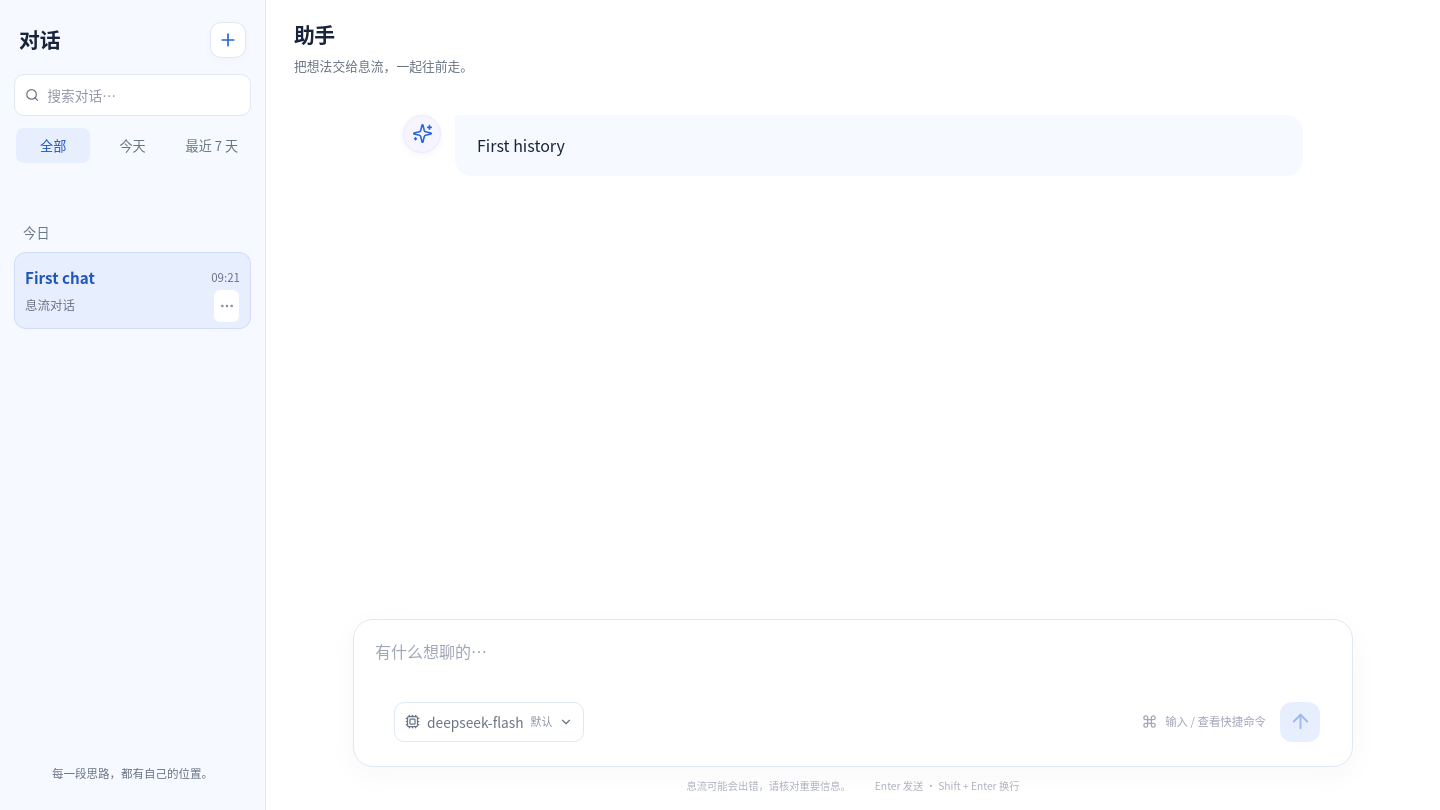
stop targets only the visible running conversation and shows its saved cancellation
Check: the text "First history" is shown, box x1=477 y1=133 x2=565 y2=157
Type "Wait" into the text box named "消息".
click(853, 654); type("Wait")  # box x1=372 y1=634 x2=1334 y2=674
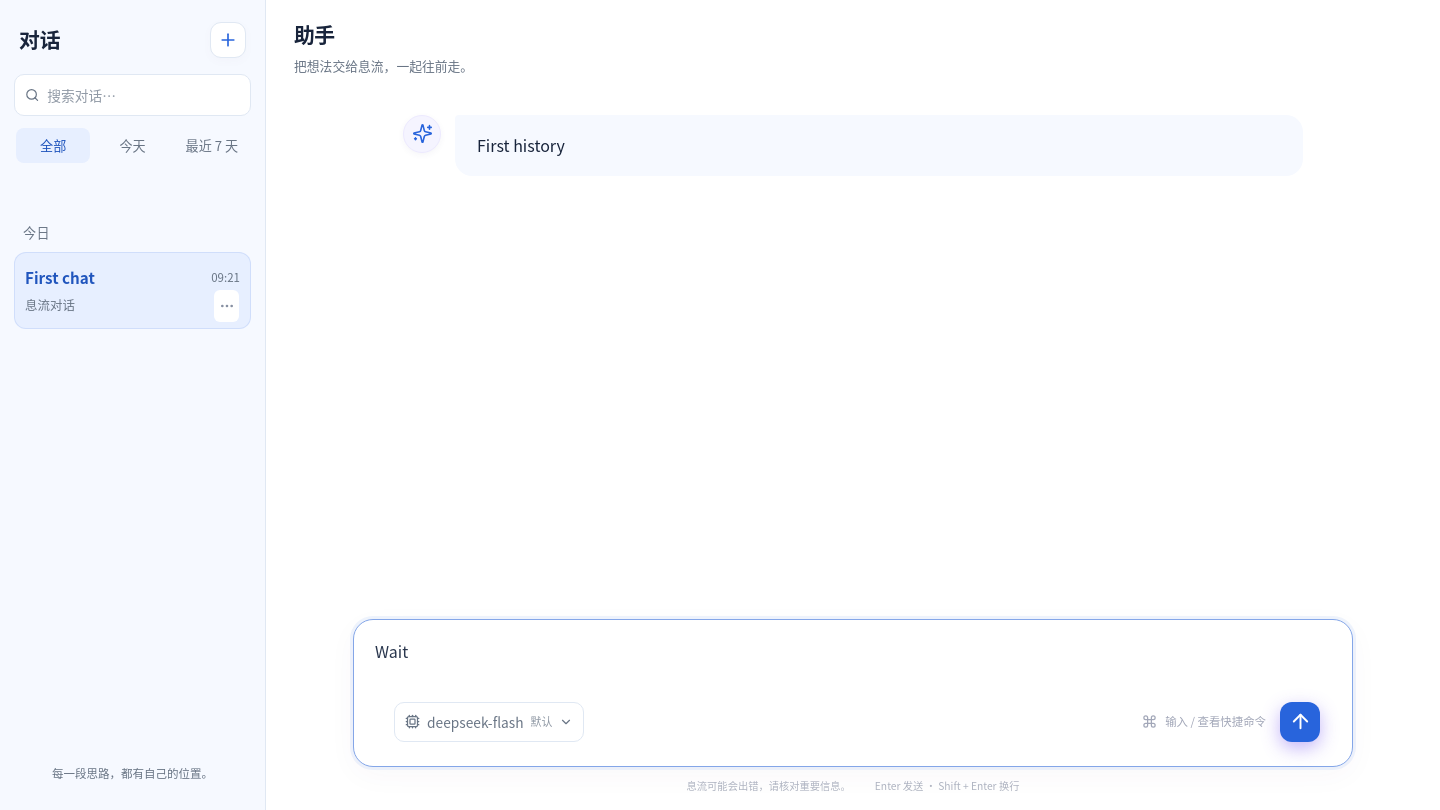
Click the button named "发送消息".
click(1300, 722)  # box x1=1280 y1=702 x2=1320 y2=742
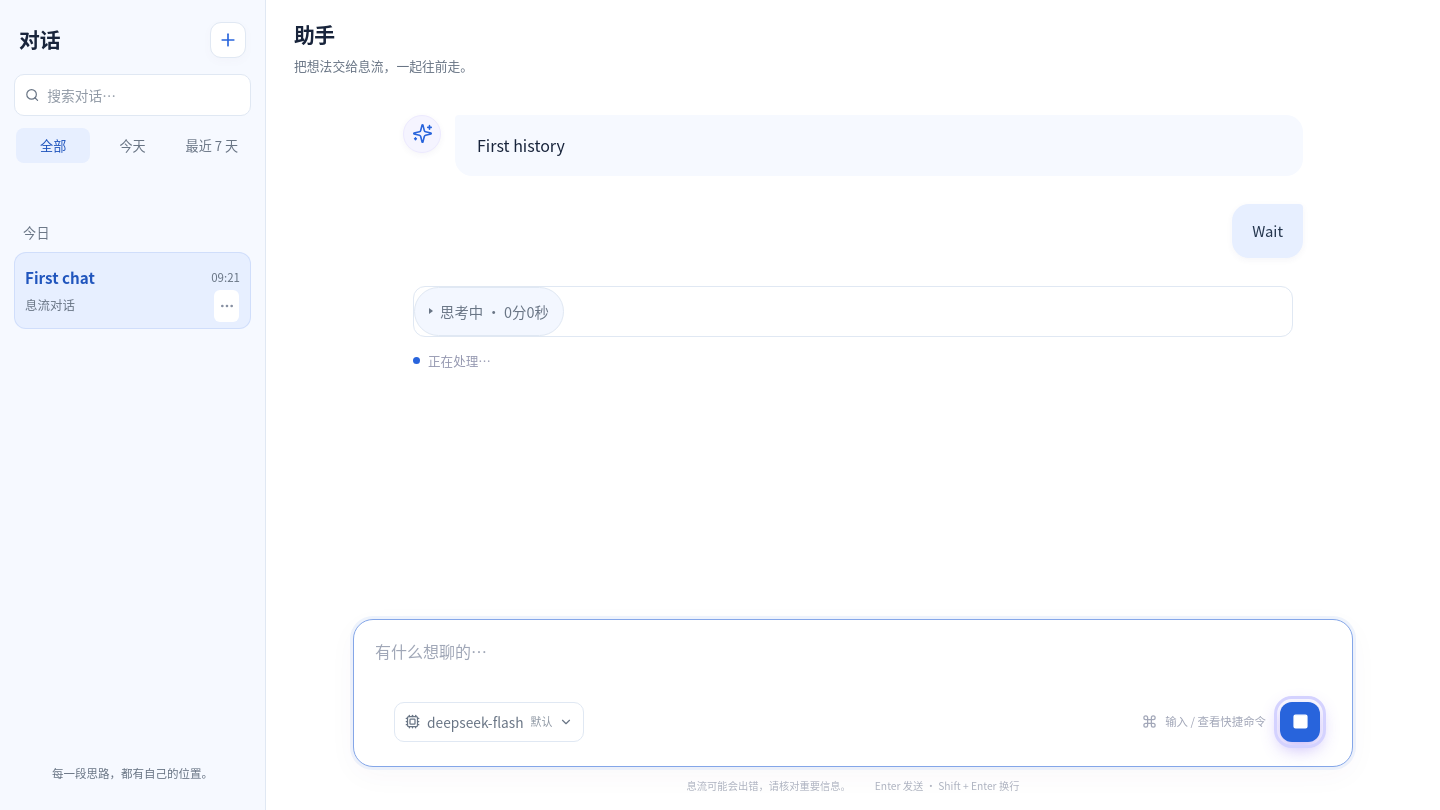
Click the button named "停止回复".
click(1300, 722)  # box x1=1280 y1=702 x2=1320 y2=742
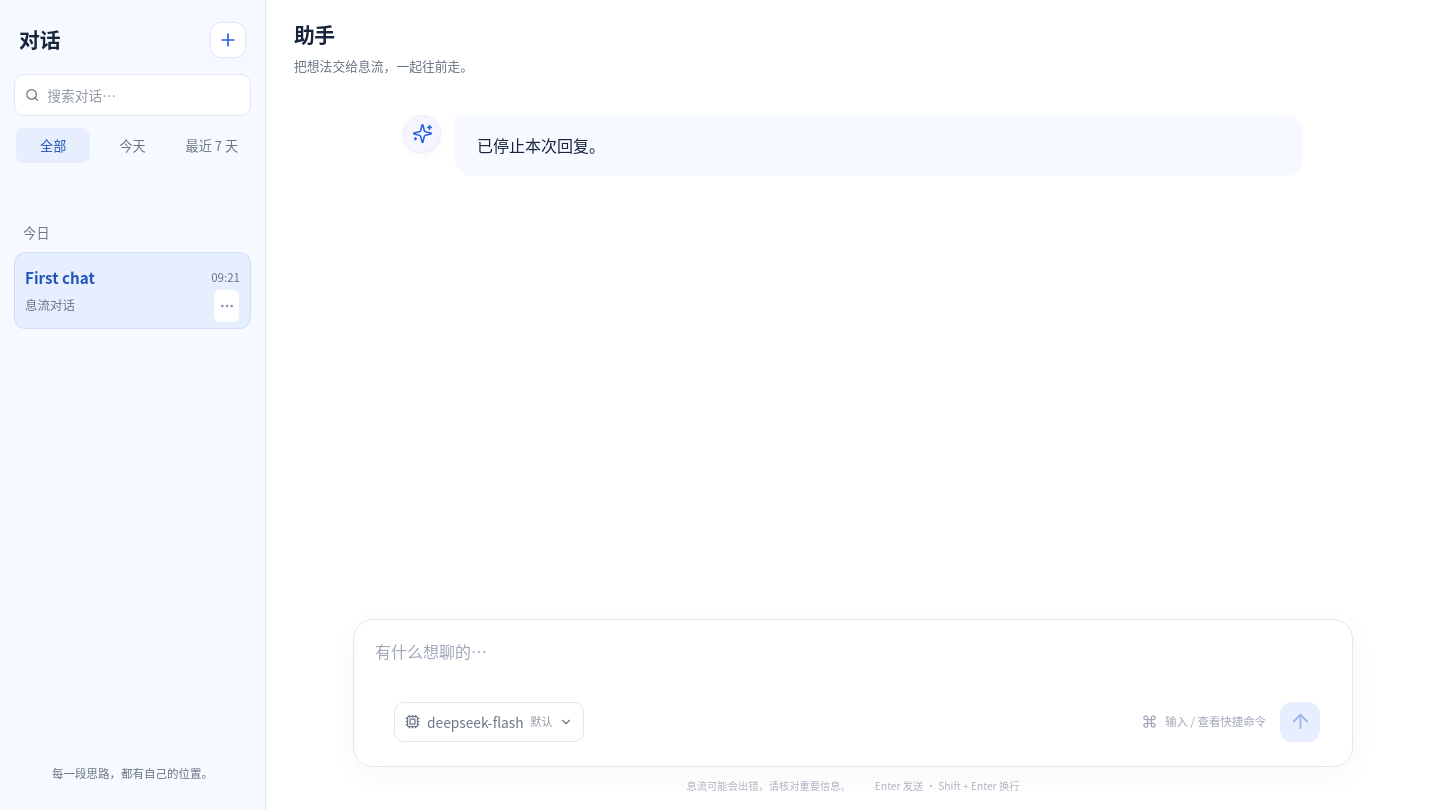
Check: the text box named "消息" is enabled, box x1=372 y1=634 x2=1334 y2=674
Check: the text "已停止本次回复。" is shown, box x1=477 y1=133 x2=605 y2=157
